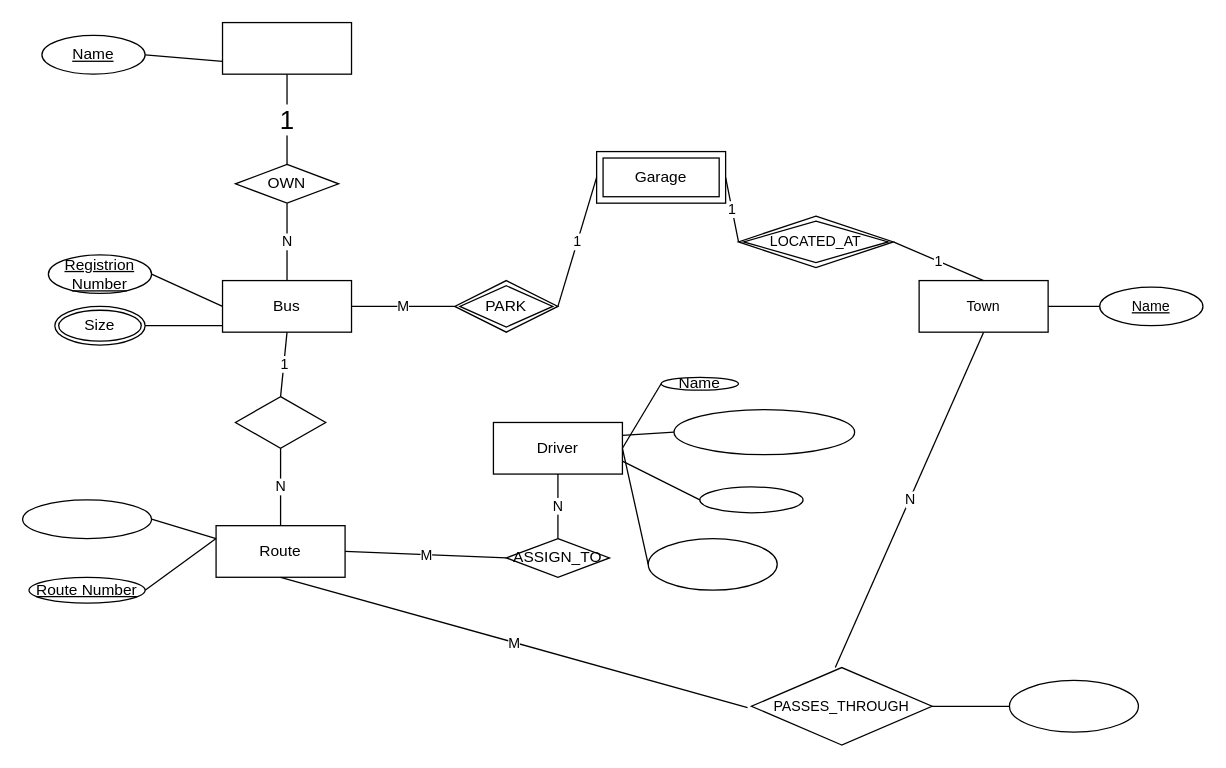
Image size: 1226x768. Some labels were removed from this diagram. The shapes that lost their labels are listed below. From the top down, each one's centre as x and y in pixels, then its label:
(286,47): Company
(280,421): HAS
(764,431): Telephone Number
(86,519): Average Carried Customer
(751,499): Address
(712,563): Employee Number
(1073,705): Number of Towns
